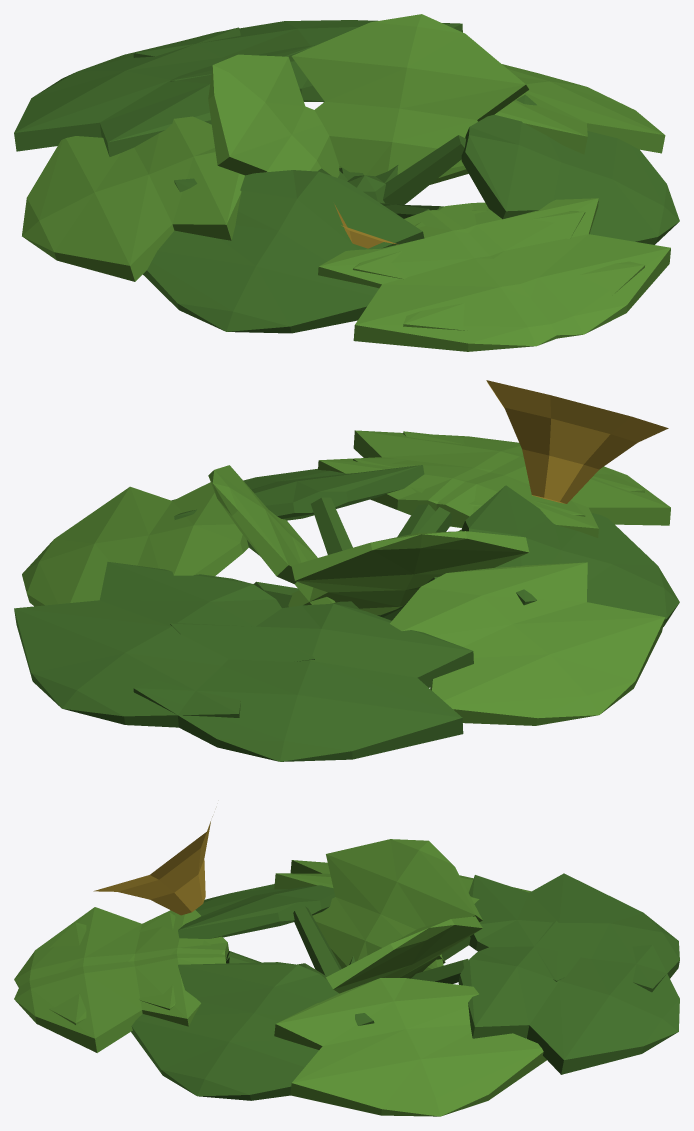
The model's file is squash_2.gltf.
3 views of the same model, one above another, from view 1: azimuth 30°, elevation 25°; view 2: azimuth 150°, elevation 25°; view 3: azimuth 270°, elevation 25° (orthographic). The views are drawn at different scales.
Parts seen in each view (by area): view 1: squash_2; view 2: squash_2; view 3: squash_2.
Part boxes in pixels (<box>): squash_2: <box>14,14,679,351</box>; squash_2: <box>14,380,679,761</box>; squash_2: <box>14,816,679,1116</box>.
Size of the model in its own units: 0.5732 by 0.1997 by 0.666.
